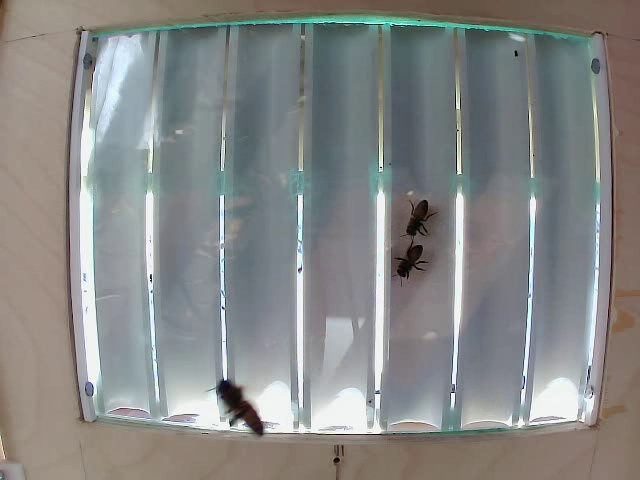bee: (397, 234, 433, 292), (400, 192, 429, 229)
